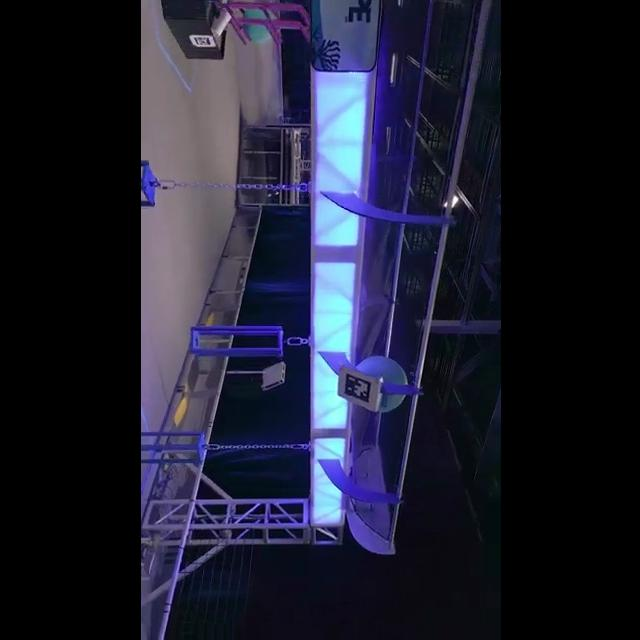ALGAE: (350, 356, 406, 414), (242, 7, 272, 43)
